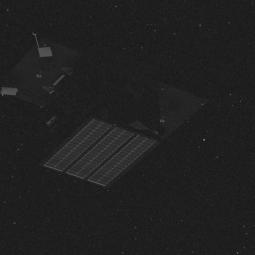proba_2: (3, 48, 211, 171)
